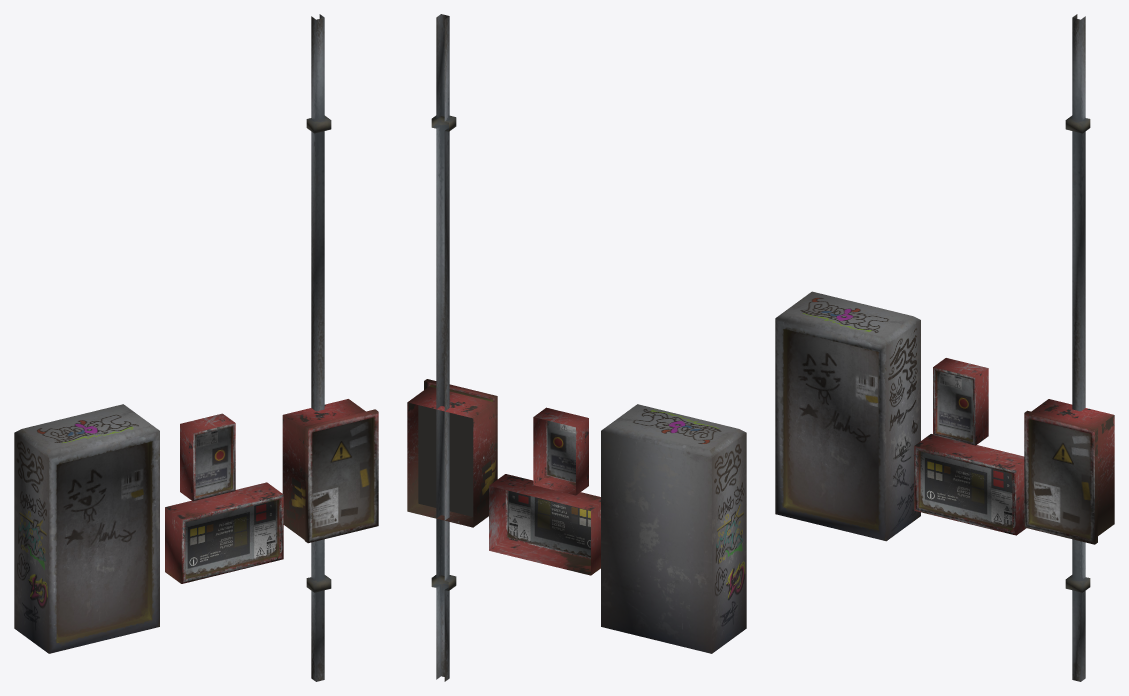
3 views of the same model, side by side, from view 1: azimuth 30°, elevation 25°; view 2: azimuth 150°, elevation 25°; view 3: azimuth 330°, elevation 25° (orthographic).
Visible parts, largest first — view 1: electric_ground_box_01, electric_wall_ui_01, electric_wall_box_01.001, metal_pipe_01, electric_wall_ui_02, electric_wall_box_01; view 2: electric_ground_box_01, metal_pipe_01, electric_wall_box_01, electric_wall_ui_01, electric_wall_ui_02, electric_wall_box_01.001; view 3: electric_ground_box_01, electric_wall_ui_01, electric_wall_box_01.001, metal_pipe_01, electric_wall_ui_02, electric_wall_box_01.
Boxes of the visible parts, <box> form: electric_ground_box_01: <box>14,404,159,653</box>; electric_wall_ui_01: <box>165,482,283,583</box>; electric_wall_box_01.001: <box>304,409,378,543</box>; metal_pipe_01: <box>306,14,331,681</box>; electric_wall_ui_02: <box>180,413,235,501</box>; electric_wall_box_01: <box>282,399,365,539</box>; electric_ground_box_01: <box>601,404,746,653</box>; metal_pipe_01: <box>431,14,456,681</box>; electric_wall_box_01: <box>407,386,494,527</box>; electric_wall_ui_01: <box>489,474,600,575</box>; electric_wall_ui_02: <box>533,407,588,495</box>; electric_wall_box_01.001: <box>424,379,497,480</box>; electric_ground_box_01: <box>775,291,920,541</box>; electric_wall_ui_01: <box>914,434,1026,535</box>; electric_wall_box_01.001: <box>1024,410,1097,544</box>; metal_pipe_01: <box>1065,14,1090,681</box>; electric_wall_ui_02: <box>933,358,988,445</box>; electric_wall_box_01: <box>1031,399,1114,535</box>.
Bounding box in the file's own units: 164 × 319 × 34.65.
